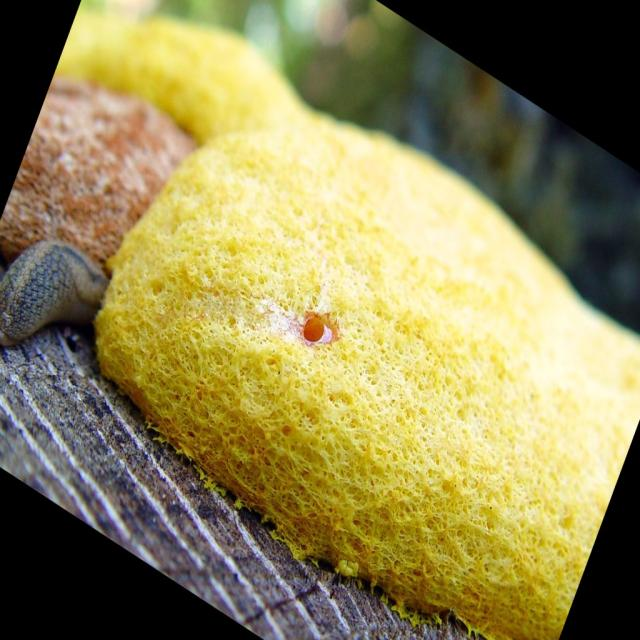Dog_vomit_slime_mold: (48, 1, 640, 640)
